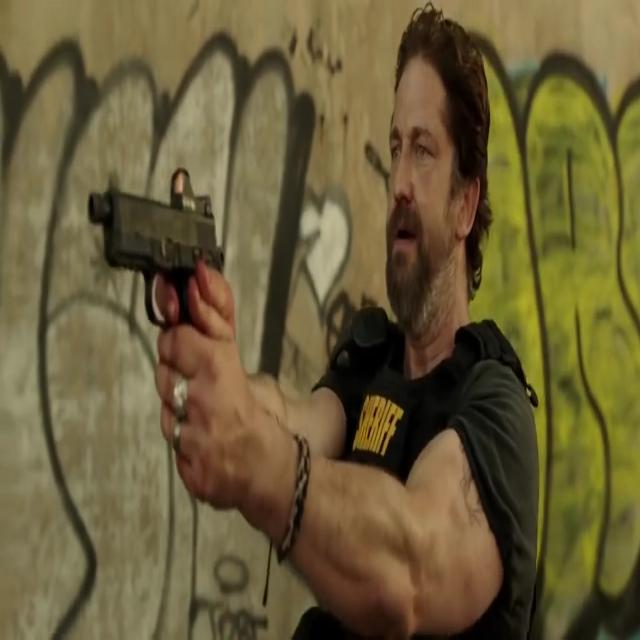Weapon: (87, 181, 236, 397)
